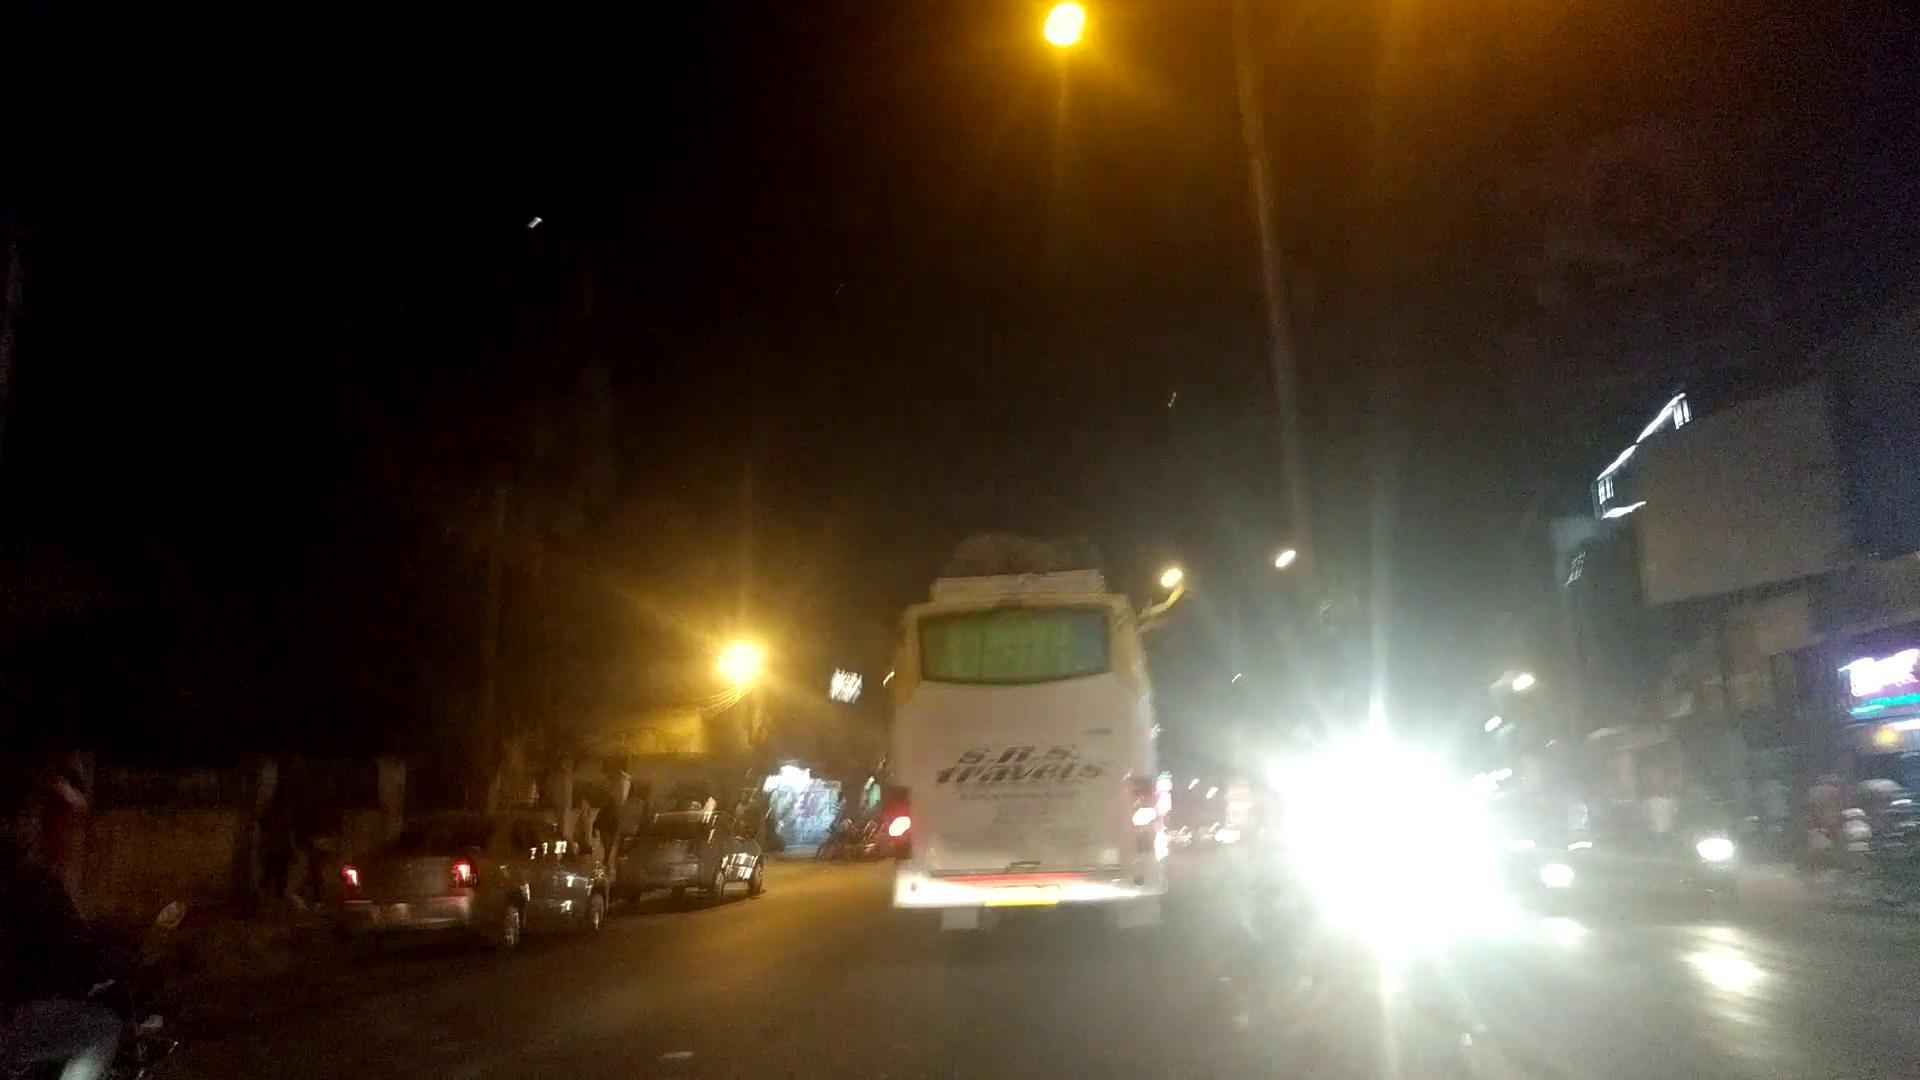on: (611, 352, 831, 868), (940, 0, 1495, 195)
